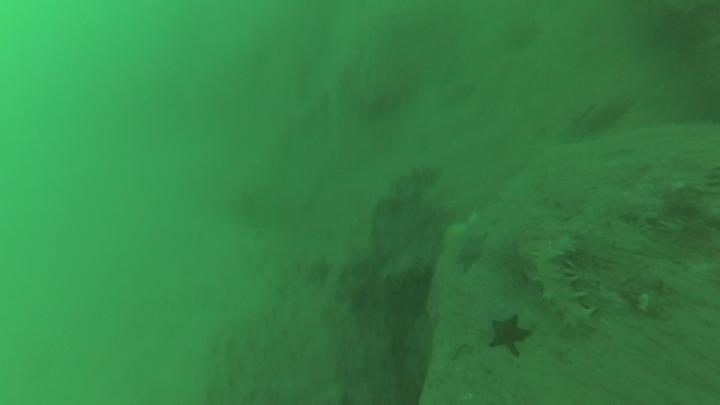holothurian: (528, 240, 601, 336)
starfish: (488, 312, 535, 360), (457, 230, 489, 276)
